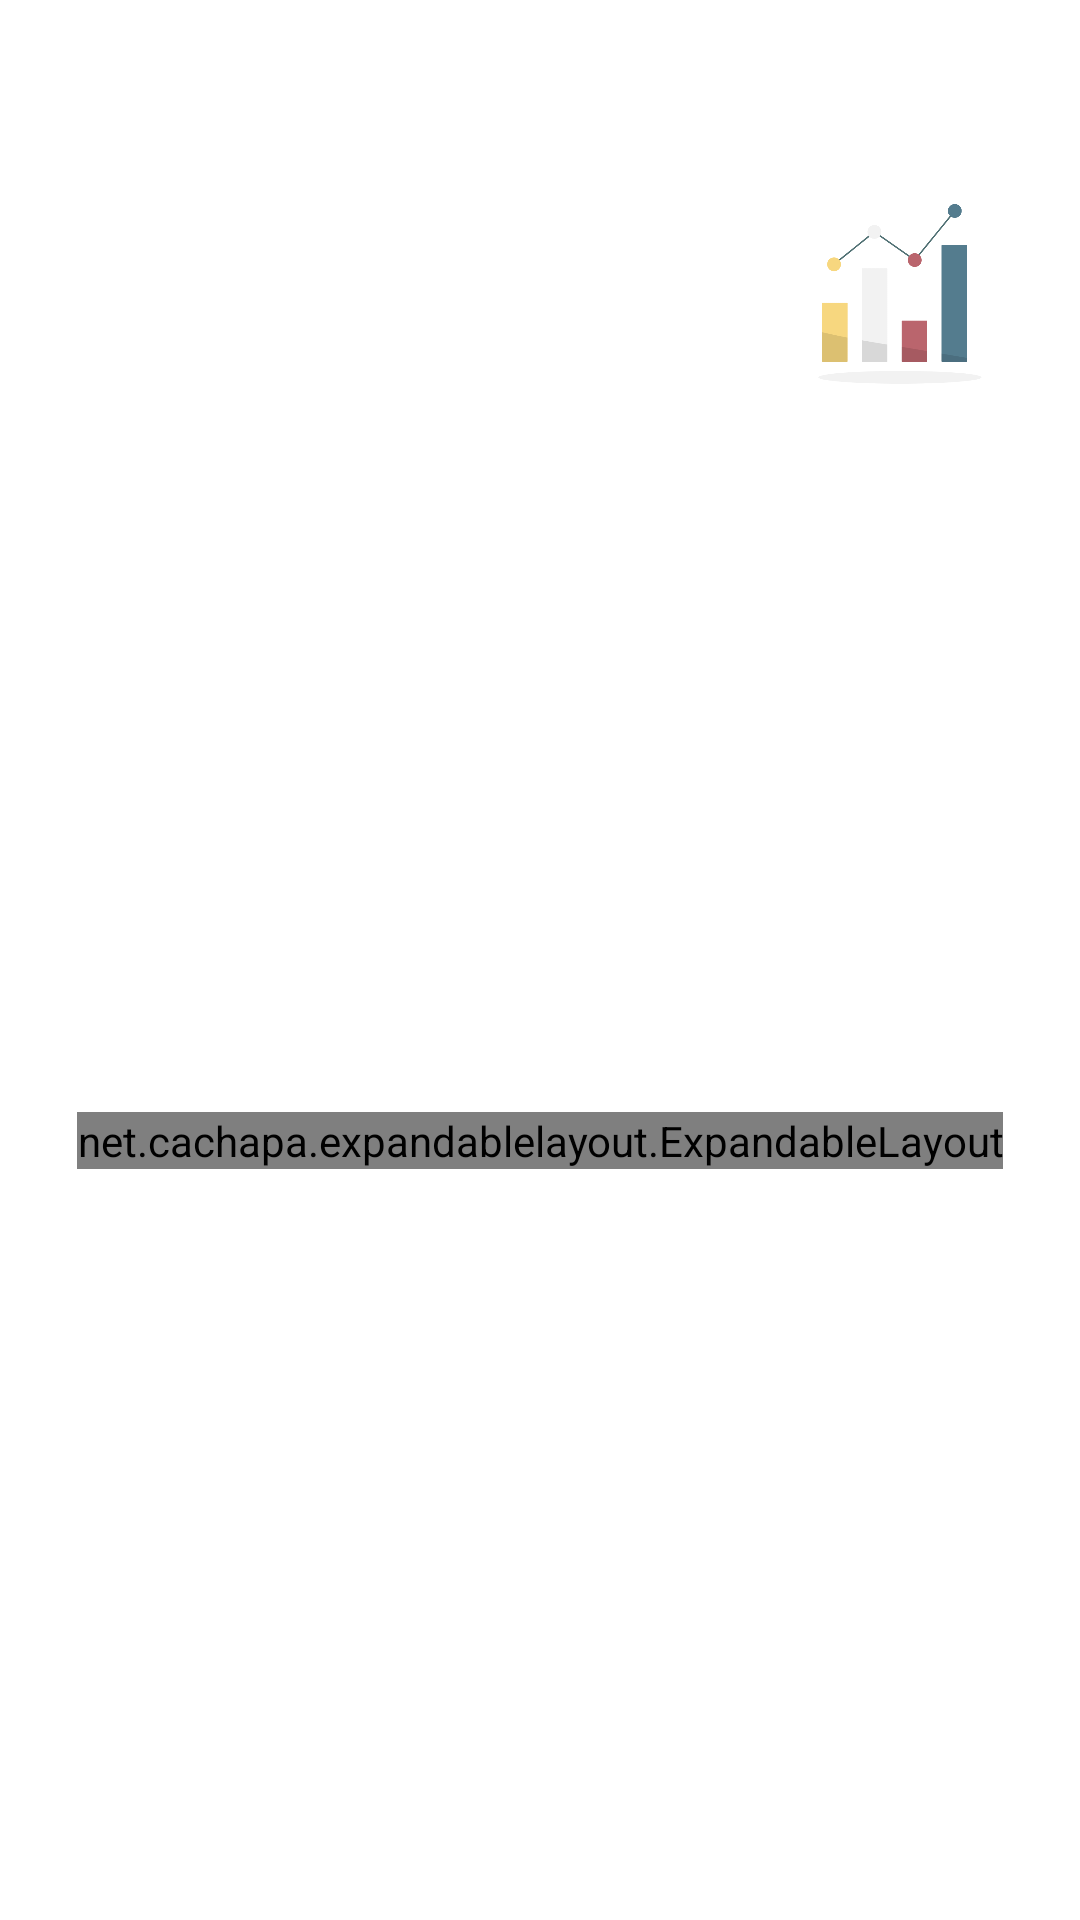

Locate icon controls on the screen. Image size 1080px x 1920px, boxes as (x1, y1, x2, y2).
analysis: (822, 204, 967, 362)
